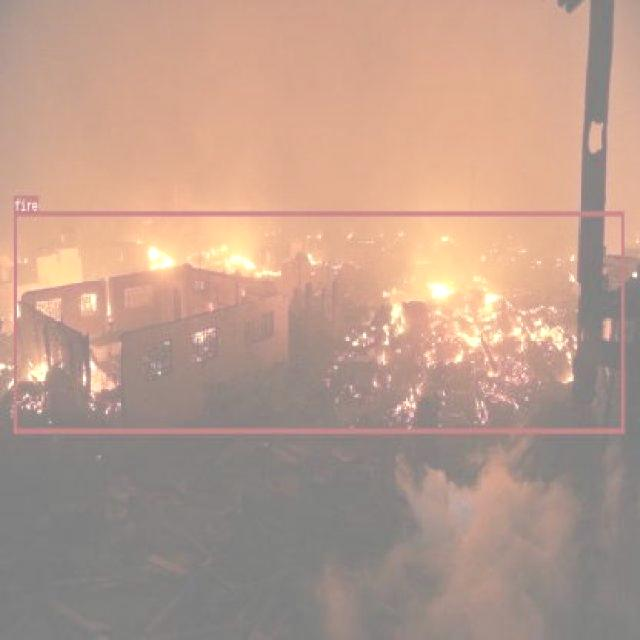fire: (13, 211, 624, 432)
